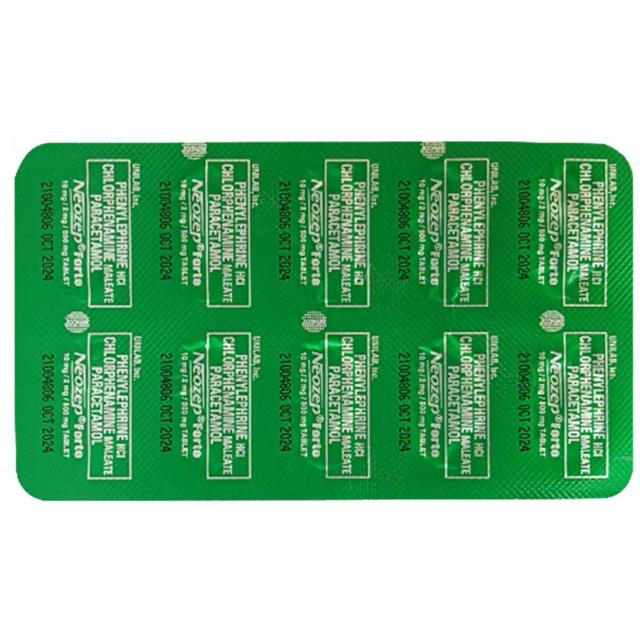blister: (8, 130, 639, 507)
